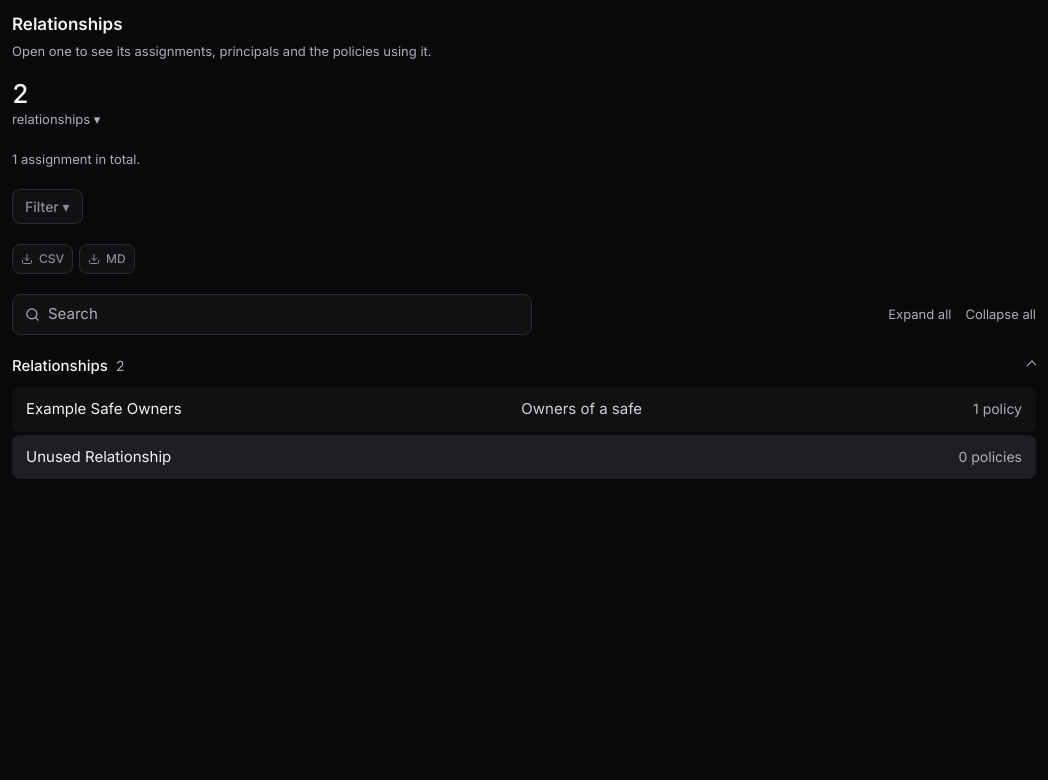
RelationshipsTab › the "not used by any policy" filter narrows to the unused relationship
Click the button "Filter ▾" at x=47, y=206, box [12,189,82,224]
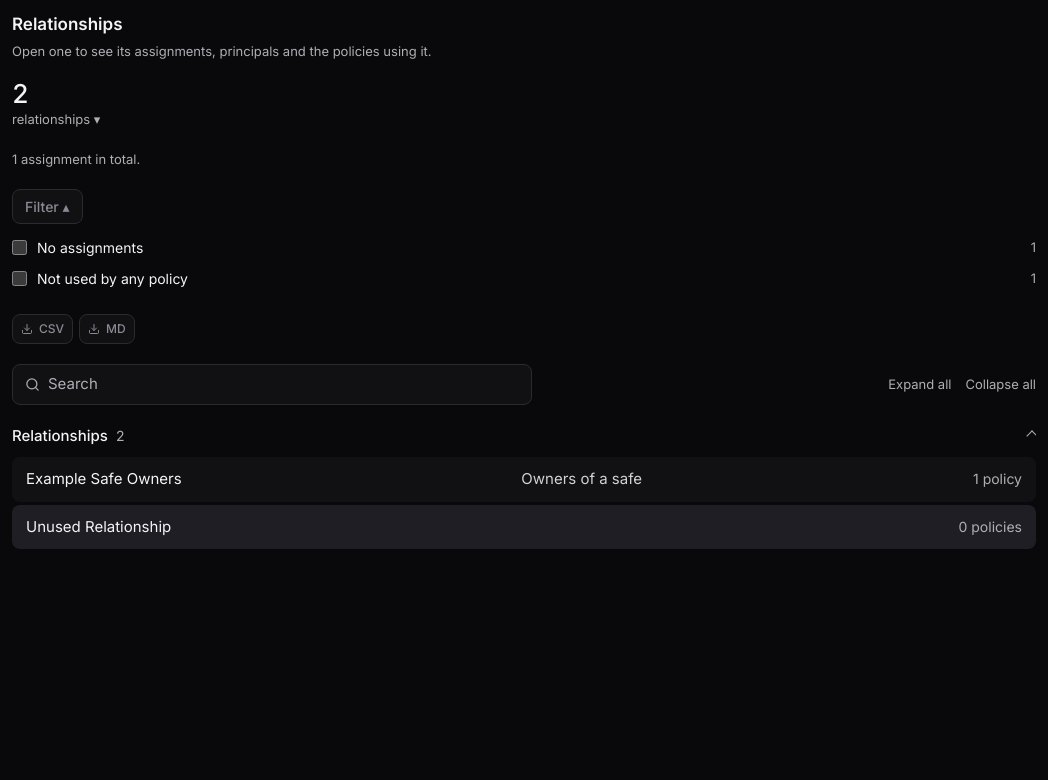
Click the checkbox labelled "Not used by any policy 1" at x=20, y=278, box [12,271,27,286]
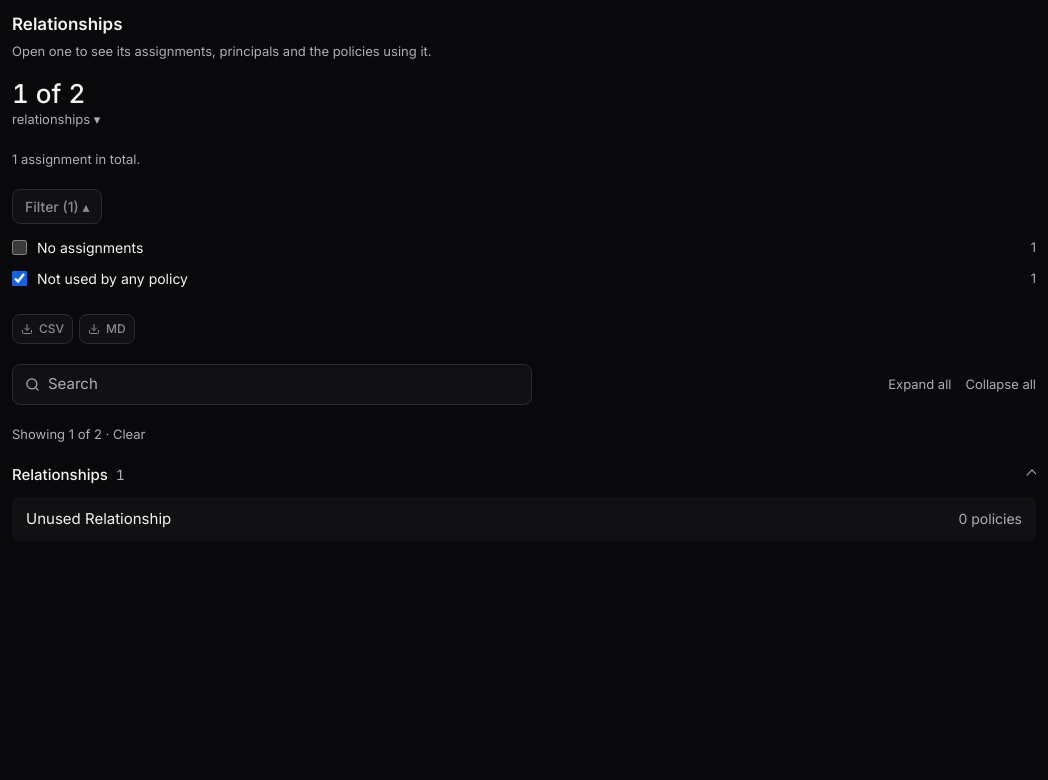
Check: the button "Unused Relationship 0 policies" is shown, box [12,496,1036,541]
Check: the button "Example Safe Owners" is gone
